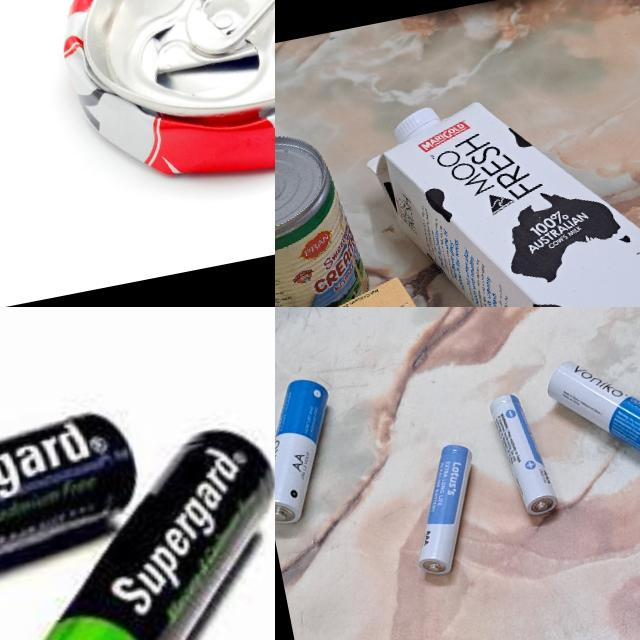aba de lata: (172, 0, 275, 60)
bateria: (0, 414, 275, 640), (0, 402, 156, 640), (542, 339, 640, 489), (396, 438, 495, 582), (275, 372, 352, 529), (484, 386, 562, 524)
caixinha: (360, 60, 640, 307)
lata: (39, 0, 275, 208), (275, 121, 376, 307)
tampa plástica: (391, 104, 444, 144)
